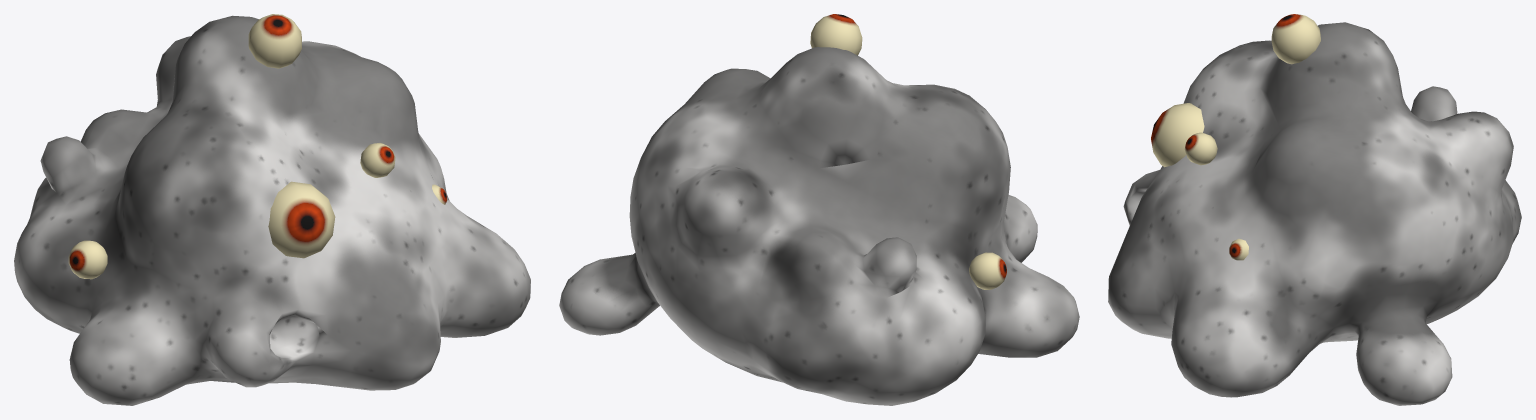
File: AmorphousNoLegs.fbx
The picture shows the model from 3 angles, left to right: view 1: azimuth 30°, elevation 25°; view 2: azimuth 150°, elevation 25°; view 3: azimuth 270°, elevation 25°; orthographic projection. The views are drawn at different scales.
Visible parts, largest first — view 1: AmorphousNoLegs; view 2: AmorphousNoLegs; view 3: AmorphousNoLegs.
Boxes of the visible parts, box(x1,y1,x2,y2) form: AmorphousNoLegs: box(14, 14, 530, 405); AmorphousNoLegs: box(559, 14, 1079, 405); AmorphousNoLegs: box(1108, 14, 1521, 405).
Bounding box in the file's own units: 1 × 0.699 × 0.8711.
Materials: 2 (2 with a texture image).
